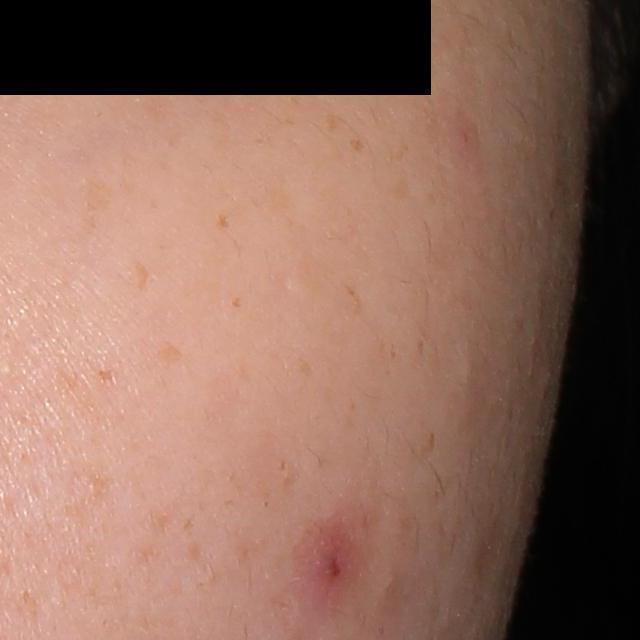melasma: (78, 171, 116, 242), (149, 338, 184, 369), (135, 259, 153, 295), (211, 210, 232, 230), (322, 109, 338, 134), (99, 367, 118, 386), (227, 292, 247, 310), (348, 137, 368, 154)
papule: (302, 522, 355, 594)
